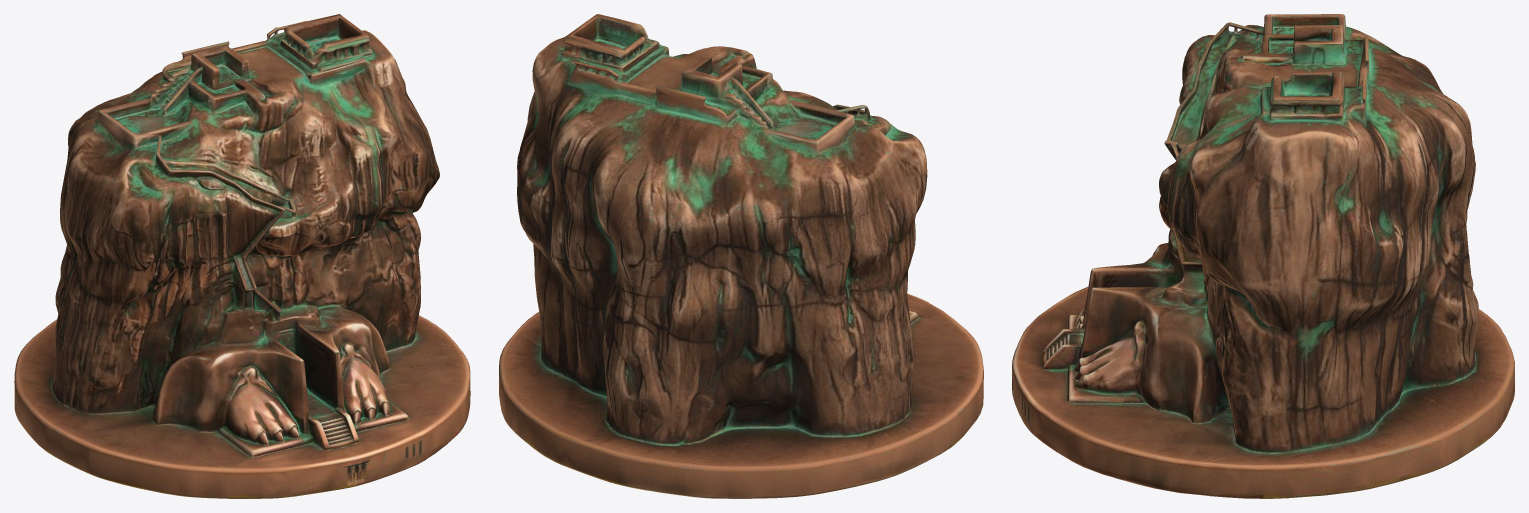
Rendered from sigiriya_meshy.glb.
3 renders of one model, left to right at view 1: azimuth 30°, elevation 25°; view 2: azimuth 150°, elevation 25°; view 3: azimuth 270°, elevation 25°, orthographic. The views are drawn at different scales.
Visible parts, largest first — view 1: Mesh_0; view 2: Mesh_0; view 3: Mesh_0.
Part boxes in pixels (<box>): Mesh_0: <box>14,14,470,498</box>; Mesh_0: <box>499,14,983,498</box>; Mesh_0: <box>1012,14,1514,498</box>.
Size of the model in its own units: 1.91 by 1.54 by 1.91.
Materials: 1 (1 with a texture image).
